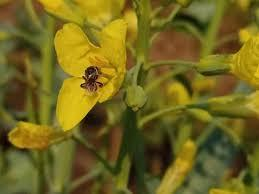Meliponula: (79, 62, 105, 97)
